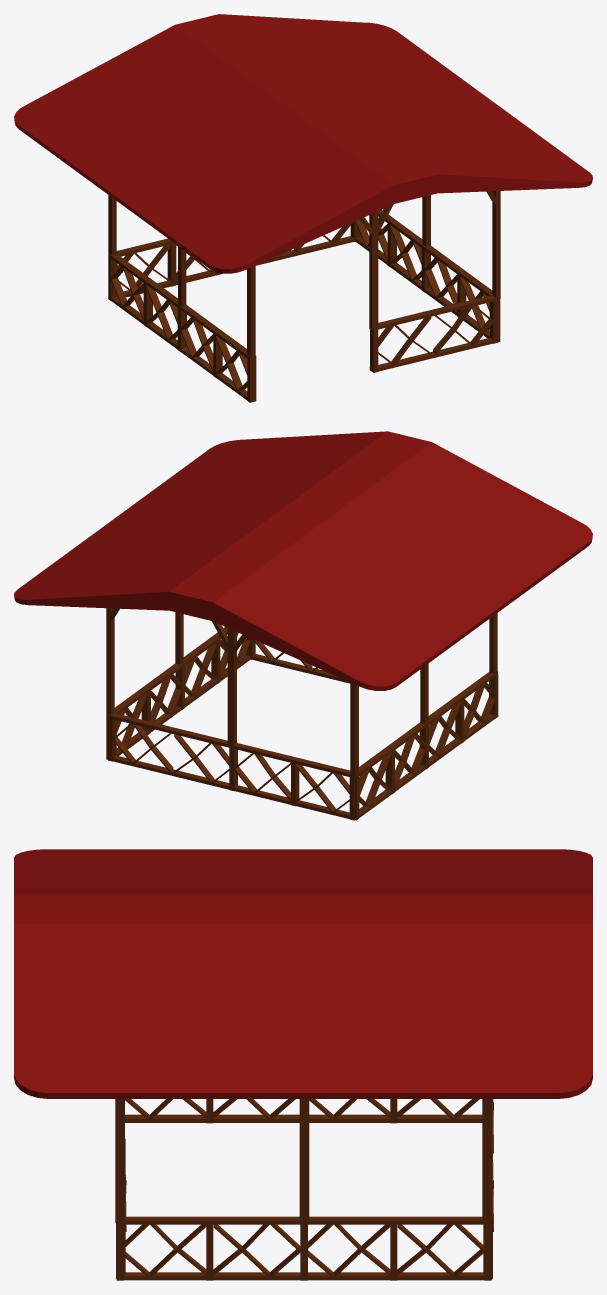
File: kamelya.fbx
3 views of the same model, one above another, from view 1: azimuth 30°, elevation 25°; view 2: azimuth 150°, elevation 25°; view 3: azimuth 270°, elevation 25° (orthographic). The views are drawn at different scales.
Parts seen in each view (by area): view 1: Plane, Cube; view 2: Plane, Cube; view 3: Plane, Cube.
Part boxes in pixels (x1,y1,x2,y2): Plane: (14, 14, 592, 273); Cube: (108, 191, 500, 402); Plane: (14, 431, 592, 690); Cube: (106, 608, 498, 820); Plane: (14, 849, 592, 1098); Cube: (115, 1099, 493, 1280).
Size of the model in its own units: 1873 by 1041 by 1873.
